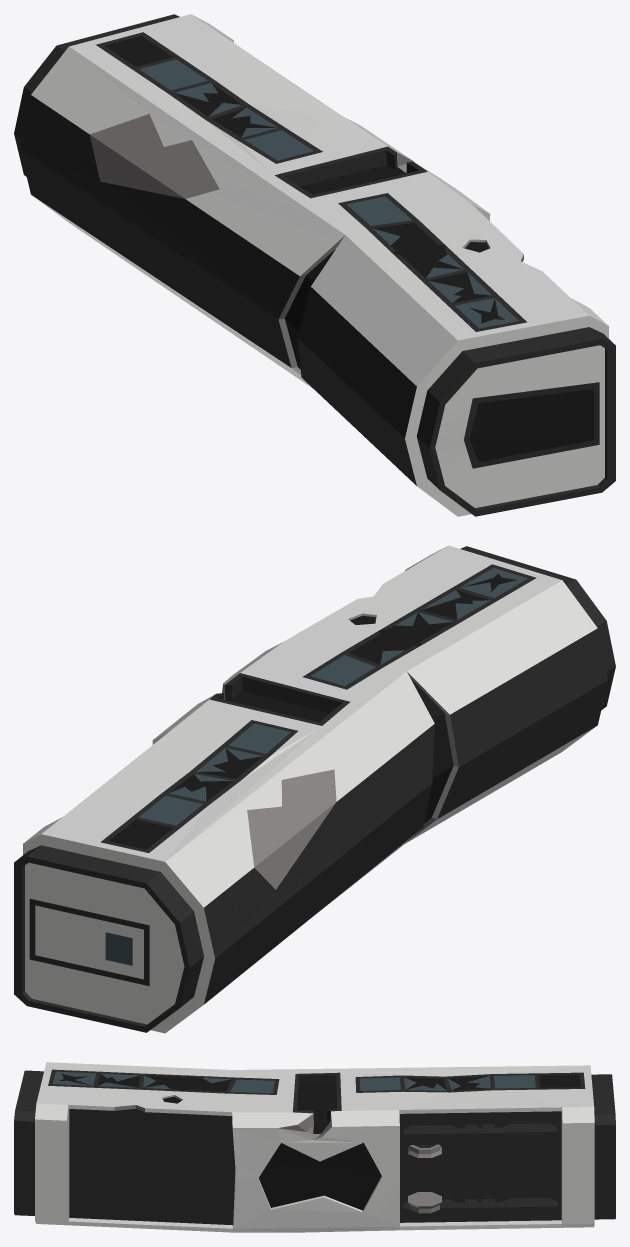
Rendered from apocalypse_train-speed-wagon-apocalypse-c.fbx.
3 views of the same model, one above another, from view 1: azimuth 30°, elevation 25°; view 2: azimuth 150°, elevation 25°; view 3: azimuth 270°, elevation 25° (orthographic). The views are drawn at different scales.
Visible parts, largest first — view 1: apocalypse_train_speed_wagon_apocalypse_c; view 2: apocalypse_train_speed_wagon_apocalypse_c; view 3: apocalypse_train_speed_wagon_apocalypse_c.
Part boxes in pixels (box(x1,y1,x2,y2)): apocalypse_train_speed_wagon_apocalypse_c: box(14, 14, 615, 516); apocalypse_train_speed_wagon_apocalypse_c: box(14, 545, 615, 1033); apocalypse_train_speed_wagon_apocalypse_c: box(14, 1062, 615, 1232).
Size of the model in its own units: 60.18 by 44.17 by 200.
